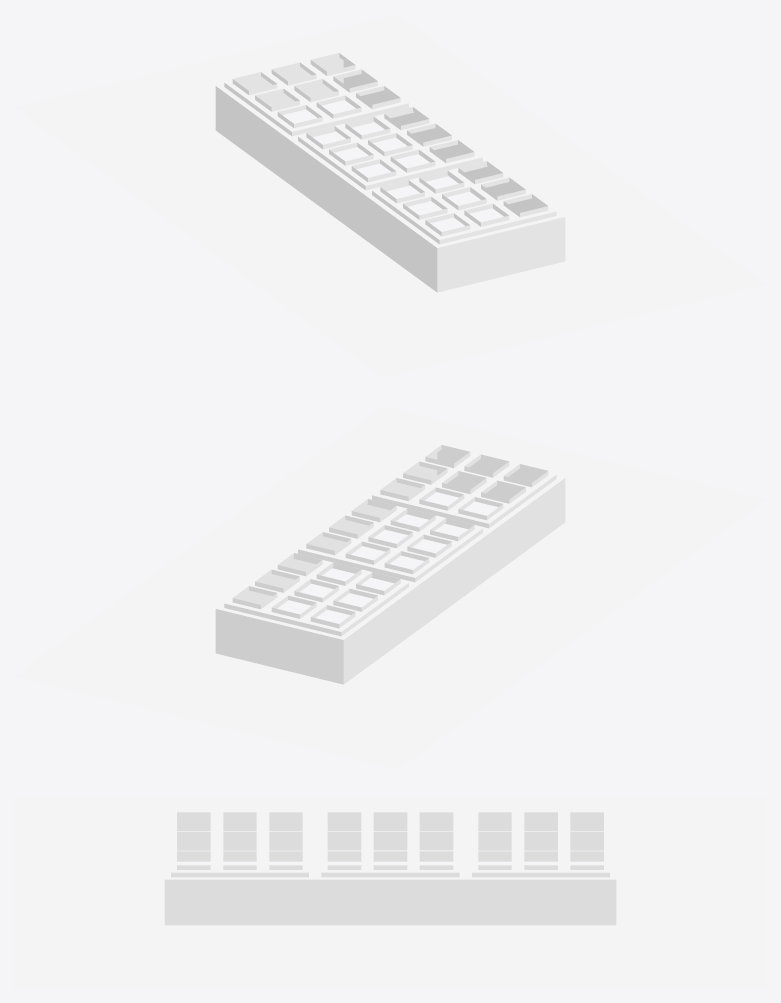
The model's file is main-ceiling.glb.
The picture shows the model from 3 angles, top to bottom: view 1: azimuth 30°, elevation 25°; view 2: azimuth 150°, elevation 25°; view 3: azimuth 270°, elevation 25°; orthographic projection.
Parts seen in each view (by area): view 1: Lobby_Ceiling; view 2: Lobby_Ceiling; view 3: Lobby_Ceiling.
Boxes of the visible parts, bbox=[...] form: Lobby_Ceiling: bbox=[14, 14, 766, 377]; Lobby_Ceiling: bbox=[14, 406, 766, 769]; Lobby_Ceiling: bbox=[14, 798, 766, 988].
Bounding box in the file's own units: 9 × 1.2 × 15.
1 material, 1 textured.
